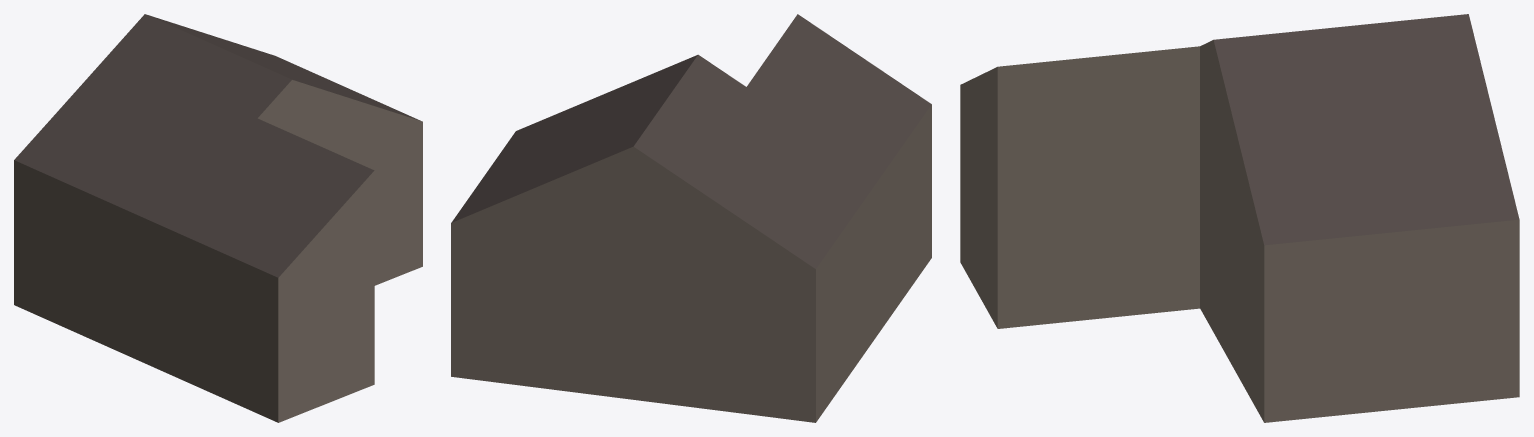
3 views of the same model, side by side, from view 1: azimuth 30°, elevation 25°; view 2: azimuth 150°, elevation 25°; view 3: azimuth 270°, elevation 25° (orthographic). The views are drawn at different scales.
Visible parts, largest first — view 1: HP-w293398947; view 2: HP-w293398947; view 3: HP-w293398947.
Part boxes in pixels (x1=…): HP-w293398947: x1=14, y1=14, x2=422, y2=422; HP-w293398947: x1=451, y1=14, x2=931, y2=422; HP-w293398947: x1=960, y1=14, x2=1519, y2=422.
Bounding box in the file's own units: 14.98 × 9.89 × 17.12.
